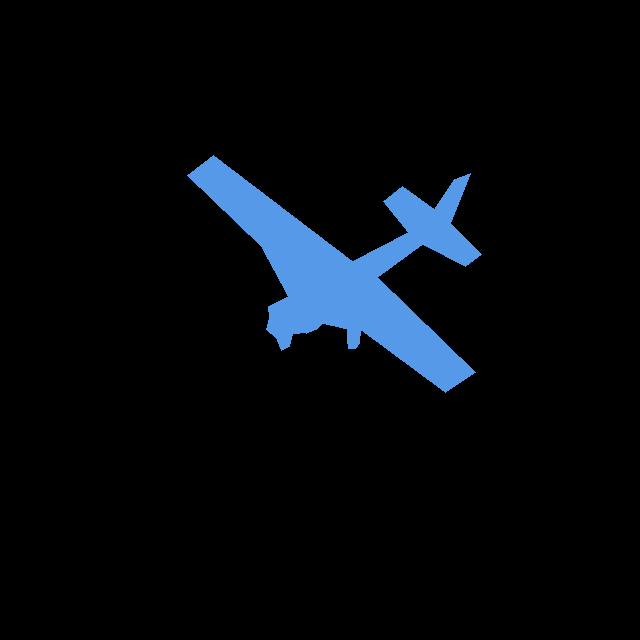Airplane: (187, 155, 482, 393)
